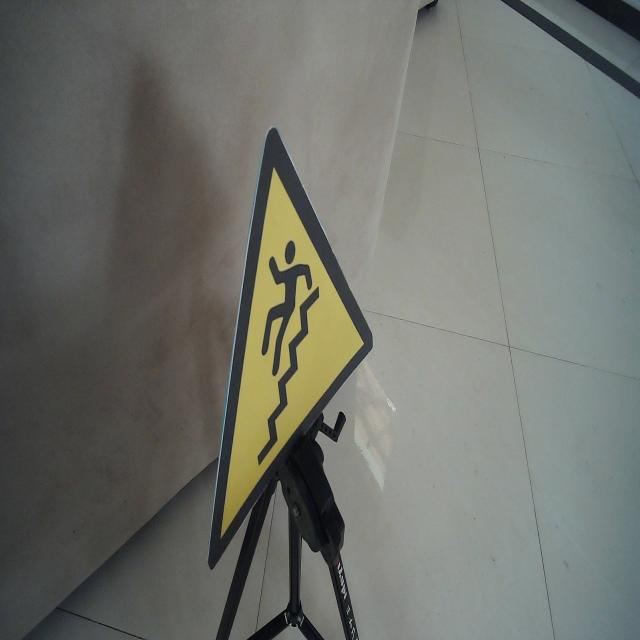stairs: (206, 123, 374, 572)
